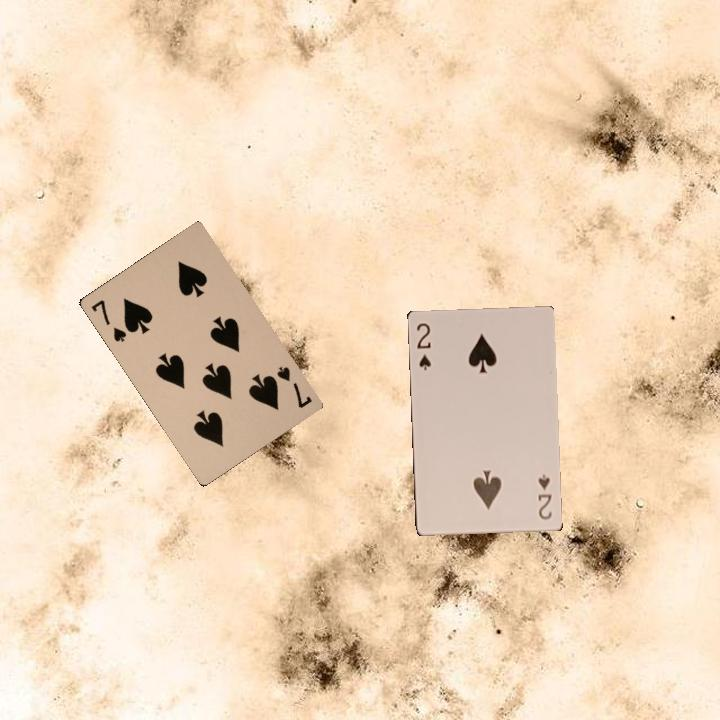2s: (413, 319, 433, 372), (534, 470, 554, 522)
7s: (87, 295, 129, 344), (273, 362, 315, 411)
